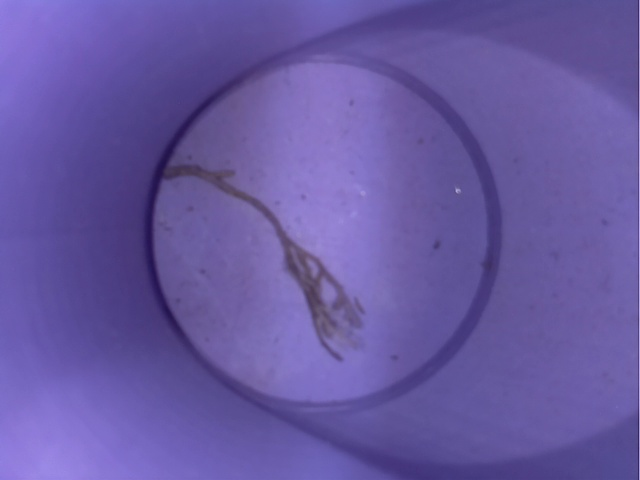ecorce: (149, 145, 384, 363)
